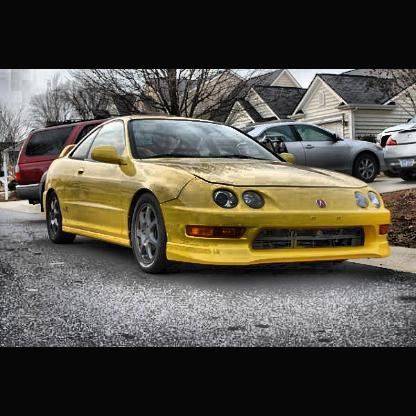Acura Integra Type R 2001: (45, 115, 393, 276)
